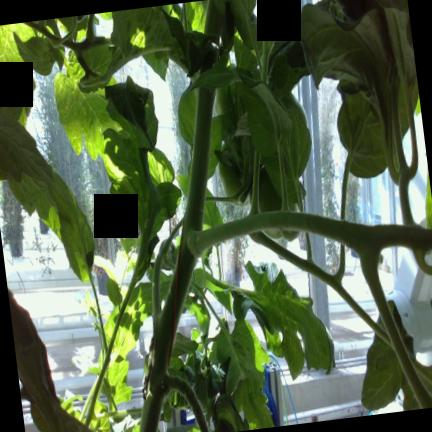6kp_peduncle: (139, 312, 209, 432)
6kp_petiole: (165, 177, 250, 317), (151, 257, 186, 373)
MainStem: (139, 87, 215, 432)
tomato: (258, 166, 281, 238), (217, 161, 248, 206), (281, 230, 298, 240)
